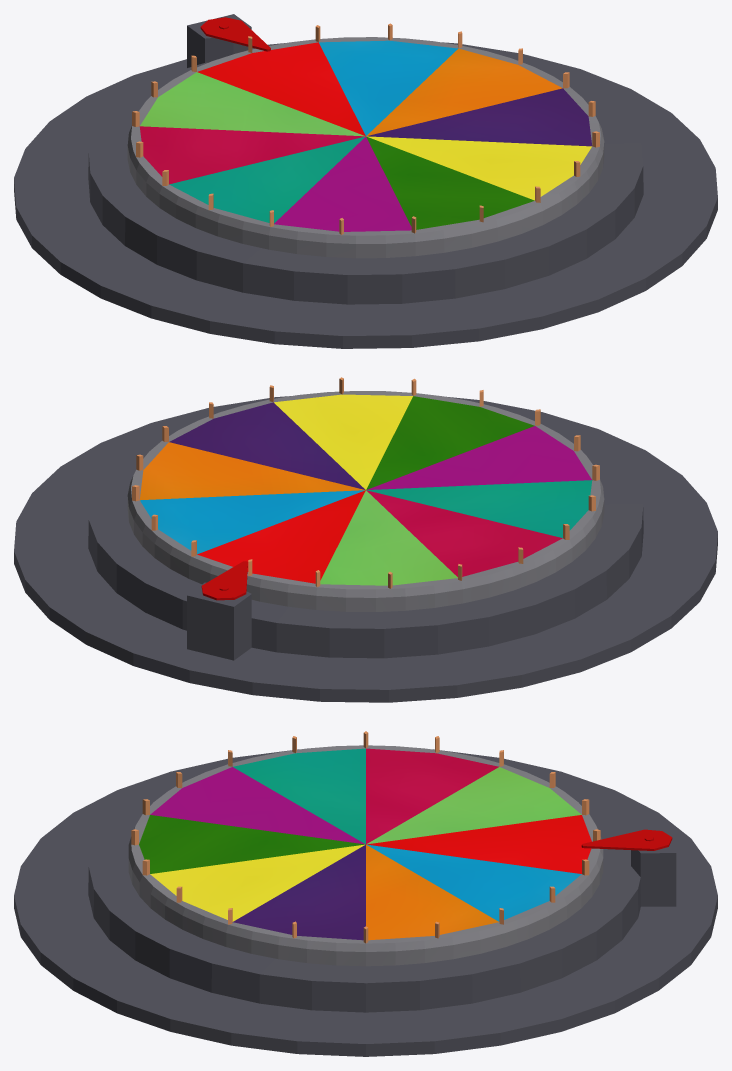
Rendered from spinner.glb.
The picture shows the model from 3 angles, top to bottom: view 1: azimuth 30°, elevation 25°; view 2: azimuth 150°, elevation 25°; view 3: azimuth 270°, elevation 25°; orthographic projection.
Visible parts, largest first — view 1: Platform, MainWheelModel, Pointer; view 2: Platform, MainWheelModel, Pointer; view 3: Platform, MainWheelModel, Pointer.
Boxes of the visible parts, x1,y1,x2,y2 form: Platform: [14, 14, 717, 348]; MainWheelModel: [127, 23, 604, 258]; Pointer: [200, 17, 270, 51]; Platform: [14, 396, 717, 702]; MainWheelModel: [127, 377, 604, 611]; Pointer: [201, 561, 247, 600]; Platform: [14, 749, 717, 1056]; MainWheelModel: [128, 731, 603, 966]; Pointer: [581, 829, 672, 850].
Size of the model in its own units: 3 by 0.3666 by 3.
Materials: 3 (3 with a texture image).
